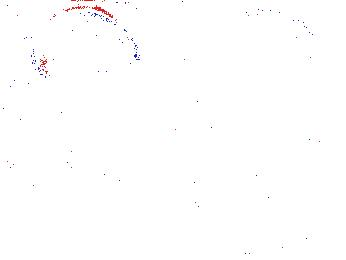moon jellyfish: (33, 7, 138, 83), (208, 10, 319, 68), (108, 24, 195, 68), (1, 24, 50, 88)
